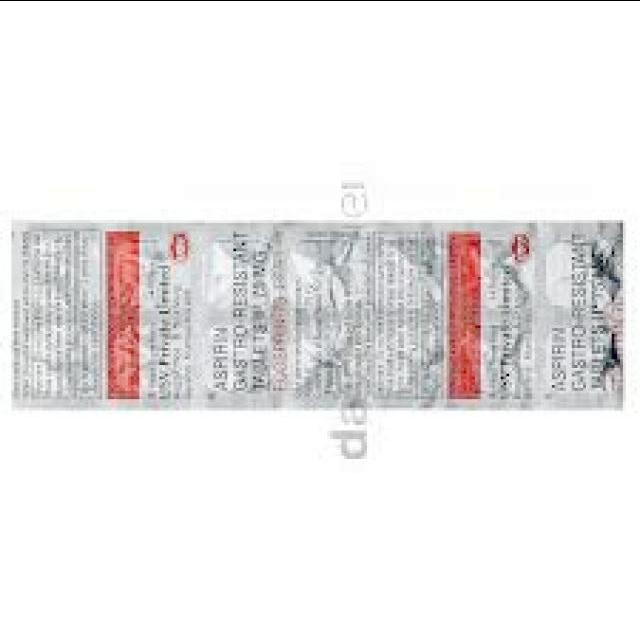authentic: (3, 206, 631, 420)
